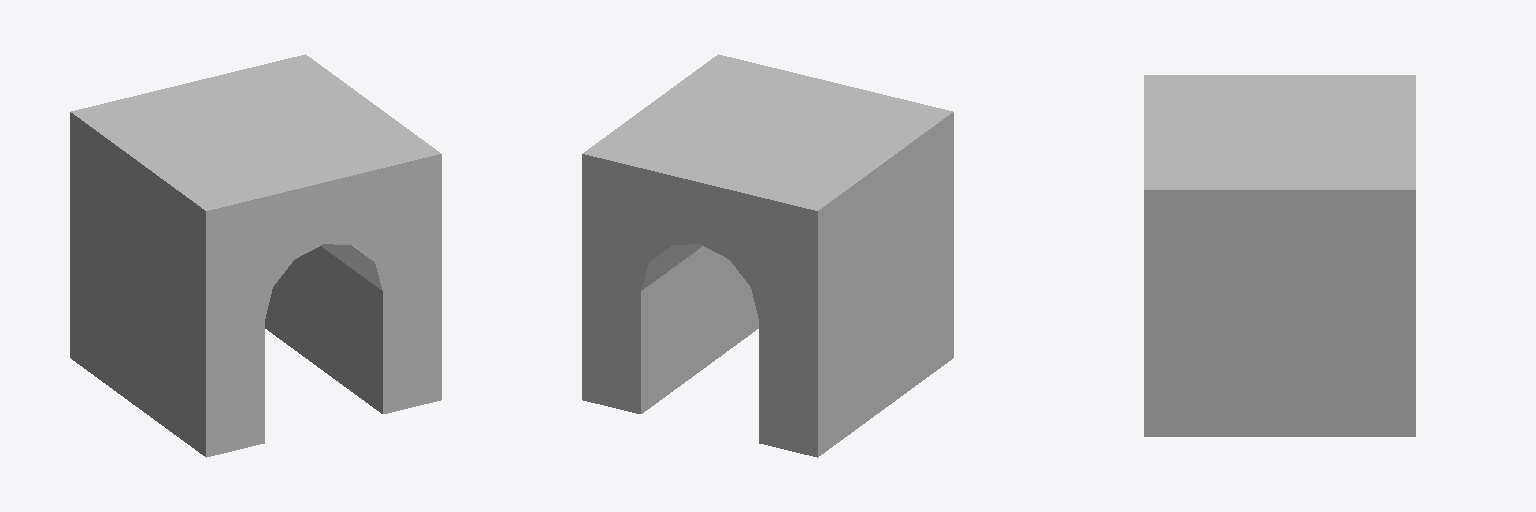
File: wall-gate.obj
3 views of the same model, side by side, from view 1: azimuth 30°, elevation 25°; view 2: azimuth 150°, elevation 25°; view 3: azimuth 270°, elevation 25° (orthographic).
Parts seen in each view (by area): view 1: wall-gate; view 2: wall-gate; view 3: wall-gate.
Part boxes in pixels (left/top/right/bottom): wall-gate: left=70, top=54, right=441, bottom=457; wall-gate: left=582, top=54, right=953, bottom=457; wall-gate: left=1144, top=75, right=1415, bottom=436.
Bounding box in the file's own units: 1 × 1 × 1.